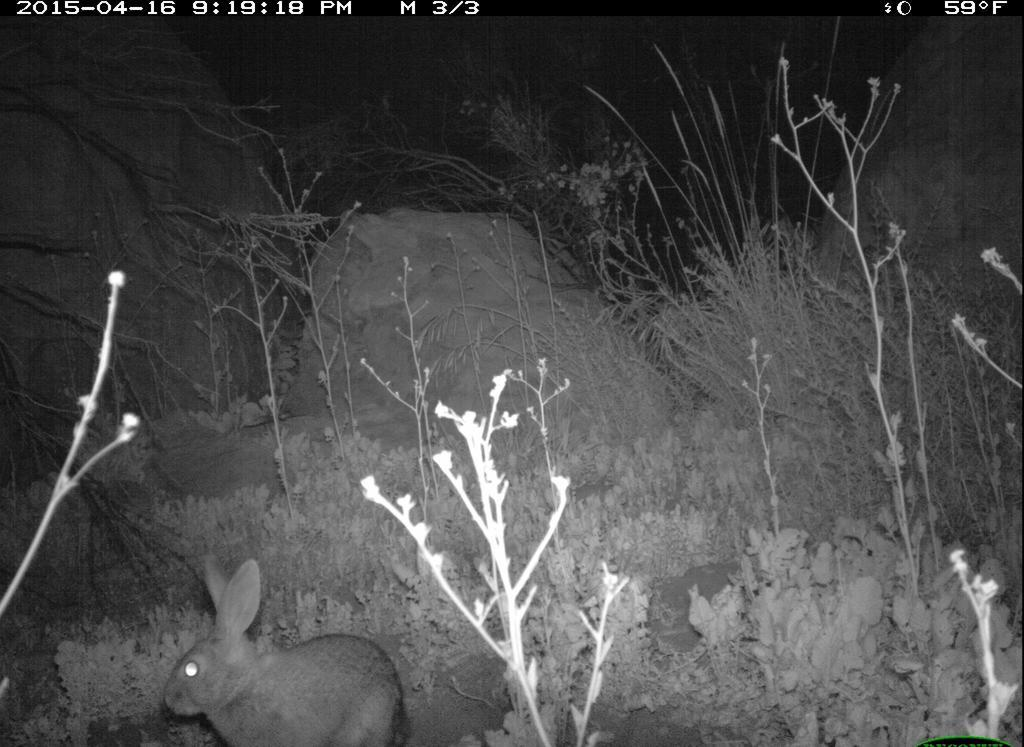rabbit: (152, 548, 417, 742)
